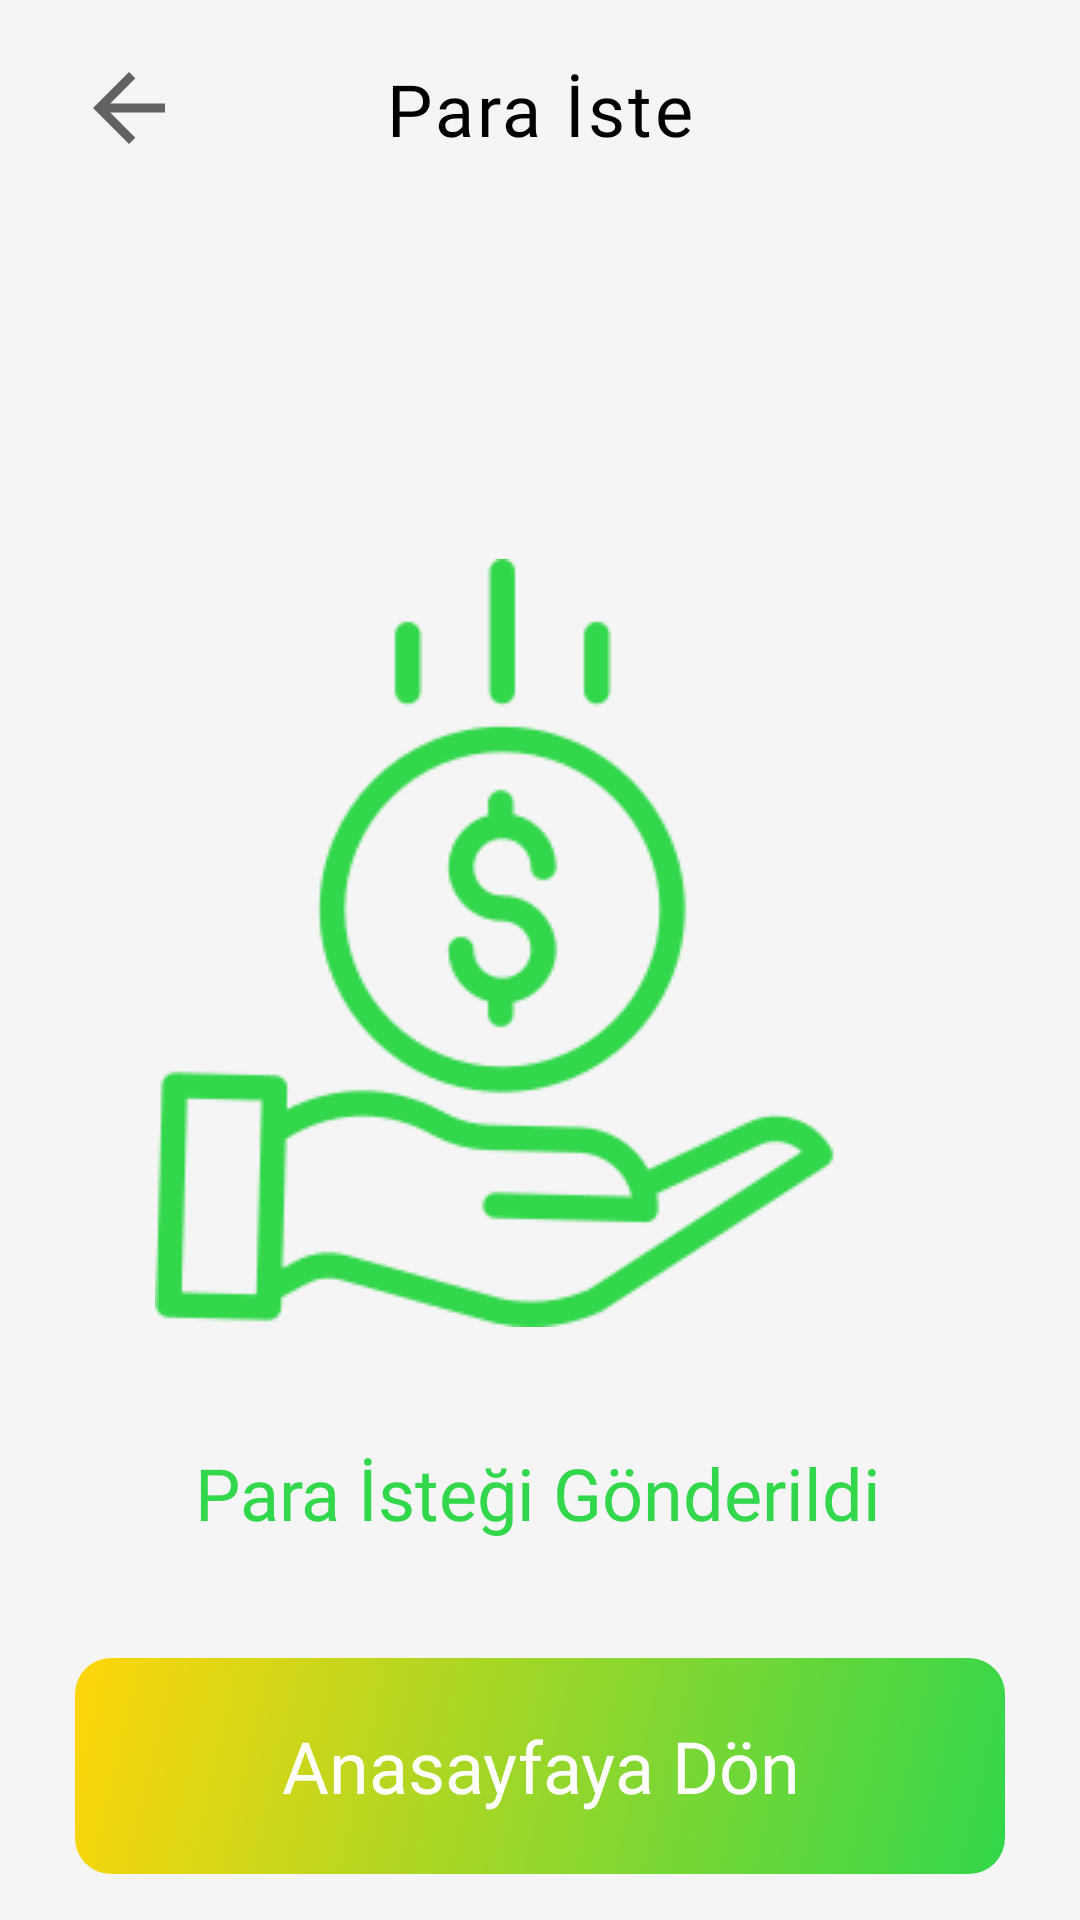

Icons on this 1080x1920 Android screen, each with its box as bbox=[x1, y1, x2, y2]:
back: bbox=[93, 72, 165, 144]
